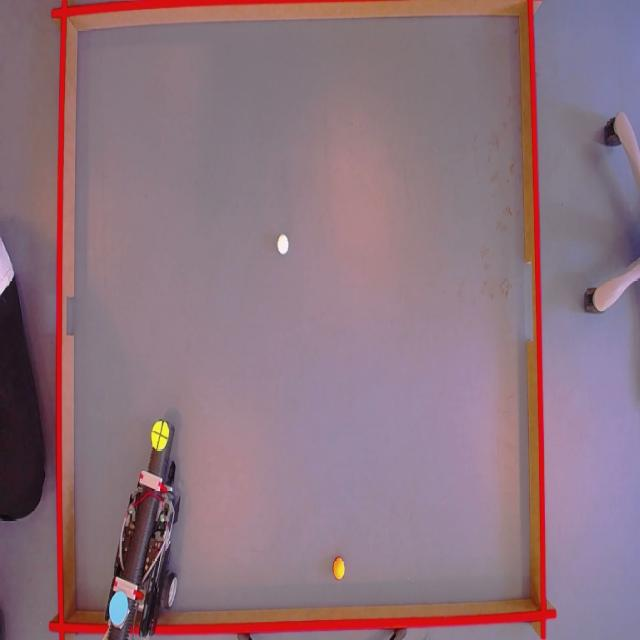orange: (332, 560, 347, 582)
robot: (96, 422, 183, 640)
robot-front: (150, 420, 170, 451)
robot-rear: (109, 590, 129, 628)
white: (275, 233, 289, 254)
